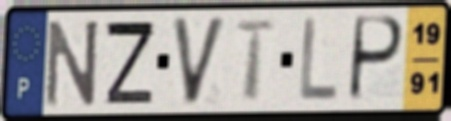L: (296, 15, 340, 105)
N: (43, 17, 102, 110)
P: (345, 14, 407, 106)
T: (232, 18, 280, 104)
V: (169, 14, 230, 109)
Z: (103, 19, 157, 106)
